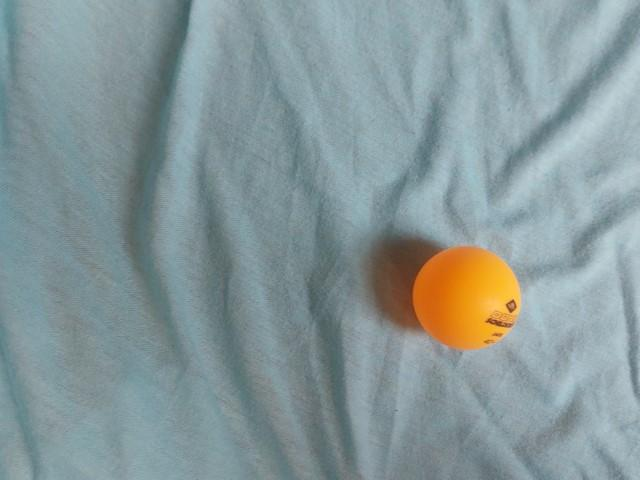oball: (406, 243, 529, 356)
